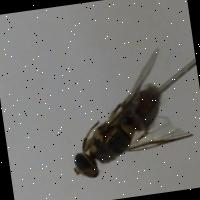Oriental-fruit-fly: (48, 45, 200, 188)
